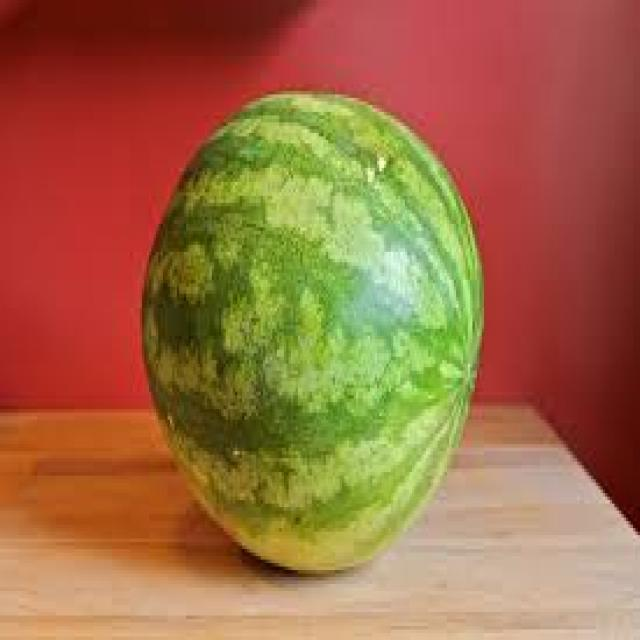organic waste: (138, 87, 480, 570)
